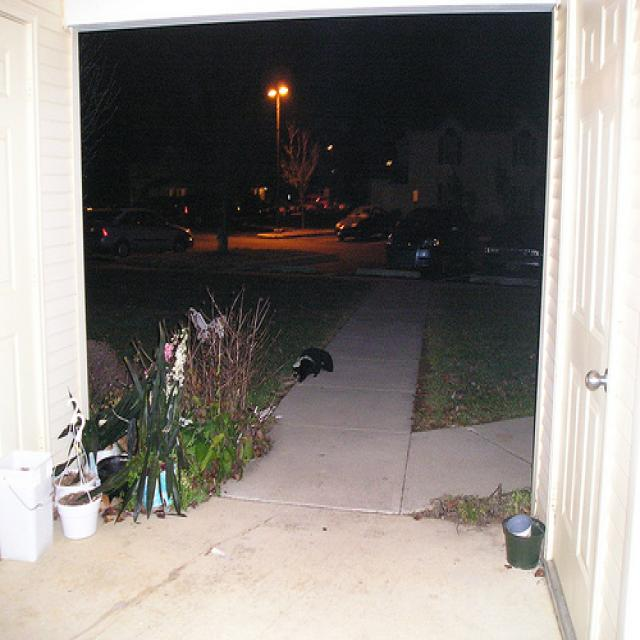Car: (297, 168, 584, 299), (86, 163, 190, 272)
